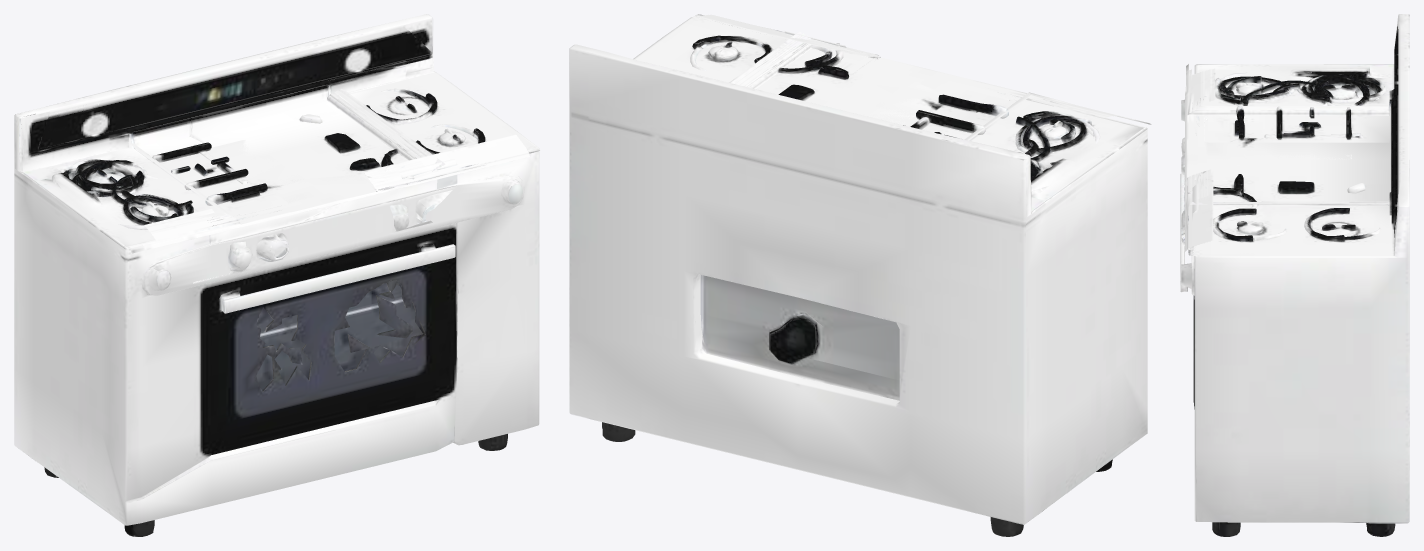
File: stove.glb
3 renders of one model, left to right at view 1: azimuth 30°, elevation 25°; view 2: azimuth 150°, elevation 25°; view 3: azimuth 270°, elevation 25°, orthographic. The views are drawn at different scales.
Size of the model in its own units: 1.9 by 1.55 by 0.9511.
Materials: 1 (1 with a texture image).
